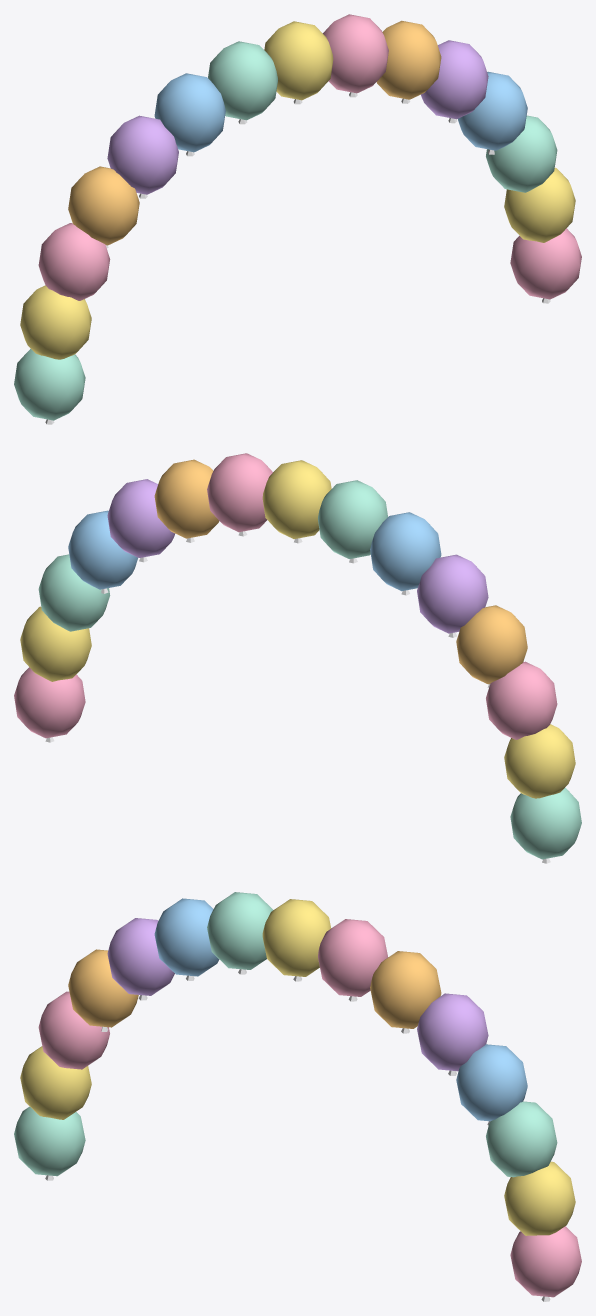
Rendered from balloon_arch.glb.
The picture shows the model from 3 angles, top to bottom: view 1: azimuth 30°, elevation 25°; view 2: azimuth 150°, elevation 25°; view 3: azimuth 330°, elevation 25°; orthographic projection.
Parts seen in each view (by area): view 1: balloon_arch; view 2: balloon_arch; view 3: balloon_arch.
Boxes of the visible parts, bbox=[...] form: balloon_arch: bbox=[14, 14, 581, 424]; balloon_arch: bbox=[14, 453, 581, 863]; balloon_arch: bbox=[14, 892, 581, 1301].
Bounding box in the file's own units: 4.04 × 2.35 × 0.46.
